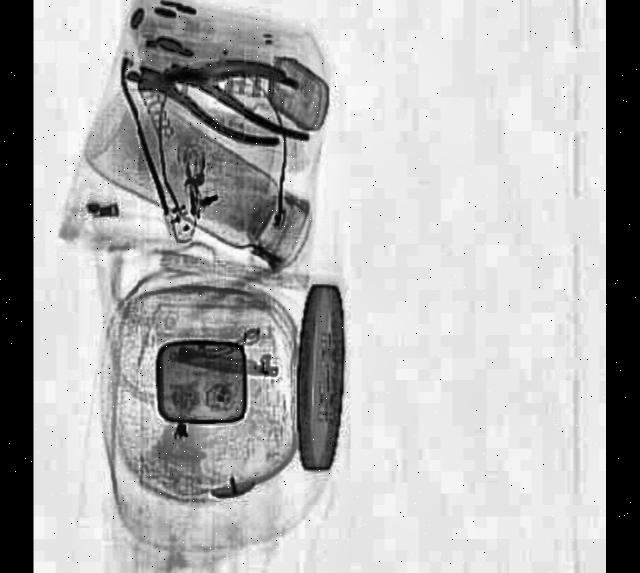Pliers: (123, 44, 298, 155), (162, 42, 318, 146)
